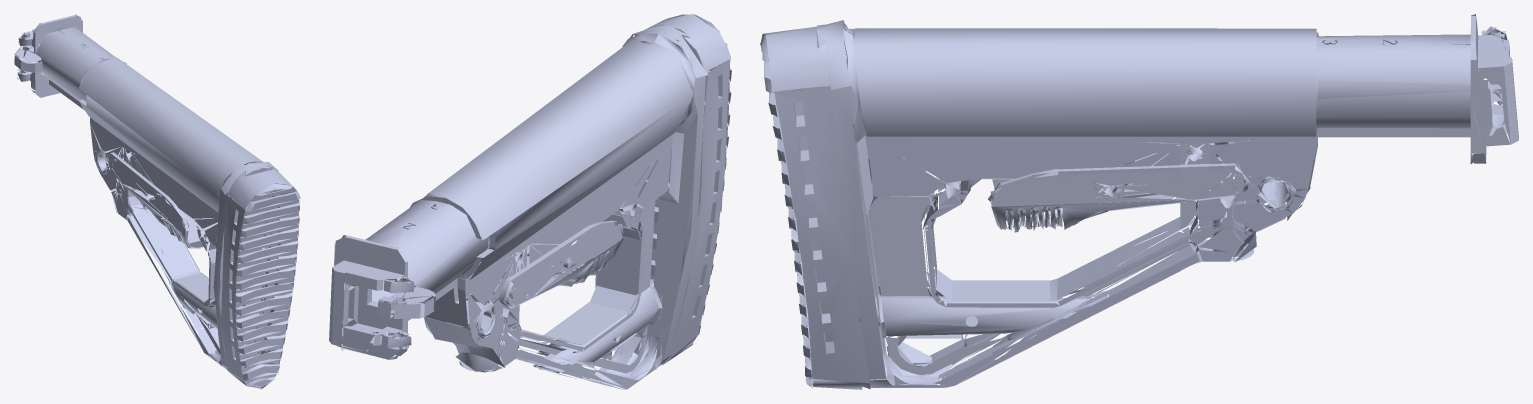
The model's file is stock_folding.glb.
3 views of the same model, side by side, from view 1: azimuth 30°, elevation 25°; view 2: azimuth 150°, elevation 25°; view 3: azimuth 270°, elevation 25° (orthographic). The views are drawn at different scales.
Parts seen in each view (by area): view 1: AK12_Stock; view 2: AK12_Stock; view 3: AK12_Stock.
Boxes of the visible parts, bbox=[...] form: AK12_Stock: bbox=[14, 14, 300, 389]; AK12_Stock: bbox=[329, 14, 731, 389]; AK12_Stock: bbox=[760, 14, 1518, 389].
Size of the model in its own units: 0.0423 by 0.1291 by 0.2451.
